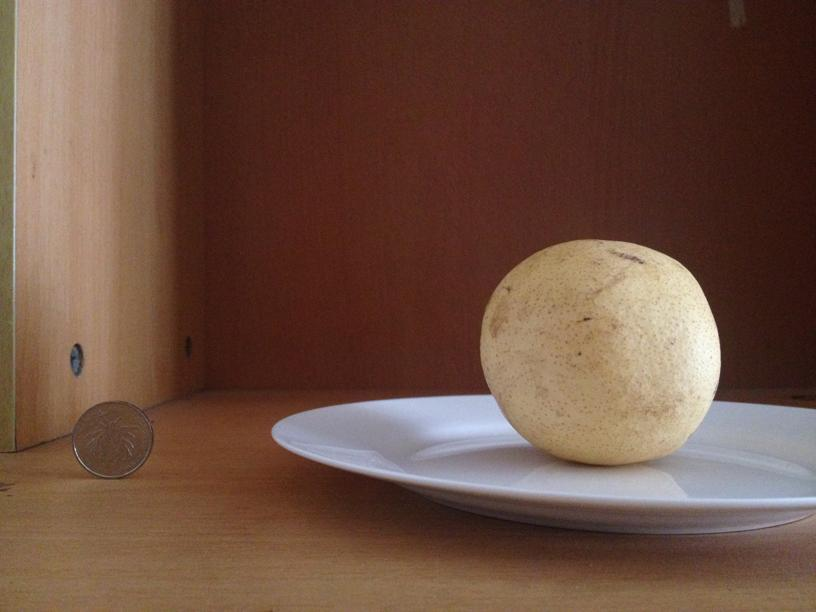coin: (71, 401, 155, 478)
pear: (480, 242, 720, 464)
